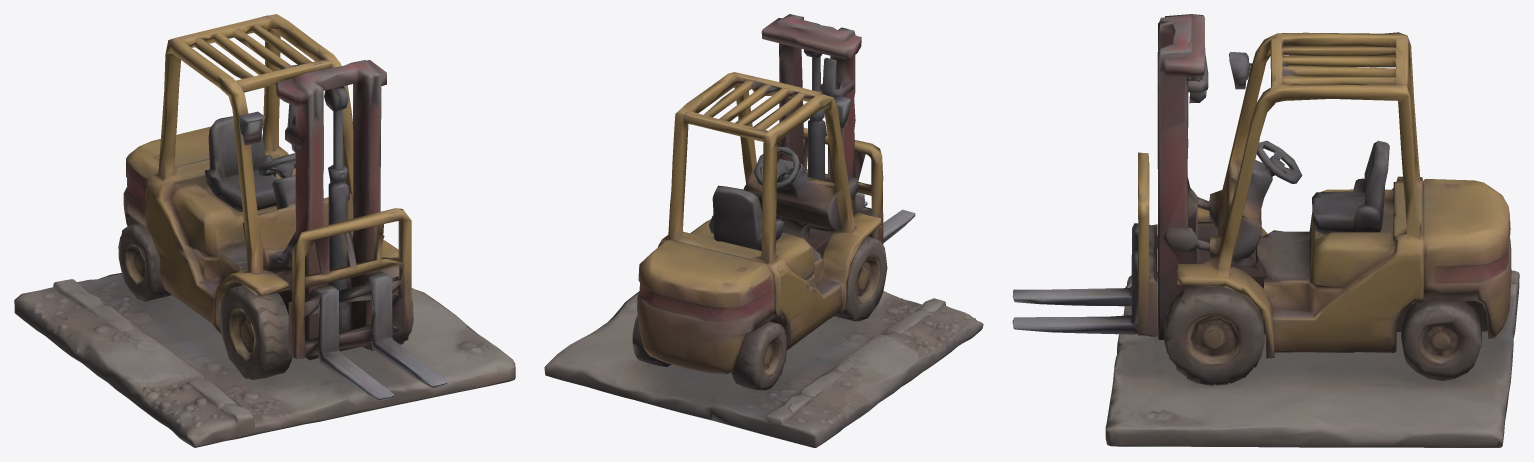
File: seaport_forklift.glb
3 renders of one model, left to right at view 1: azimuth 30°, elevation 25°; view 2: azimuth 150°, elevation 25°; view 3: azimuth 270°, elevation 25°, orthographic. The views are drawn at different scales.
Parts seen in each view (by area): view 1: tripo_node_347fdf8c-0e85-4b23-a445-d6fa62a5c093; view 2: tripo_node_347fdf8c-0e85-4b23-a445-d6fa62a5c093; view 3: tripo_node_347fdf8c-0e85-4b23-a445-d6fa62a5c093.
Part boxes in pixels (x1,y1,x2,y2): tripo_node_347fdf8c-0e85-4b23-a445-d6fa62a5c093: [14, 14, 515, 447]; tripo_node_347fdf8c-0e85-4b23-a445-d6fa62a5c093: [544, 14, 983, 447]; tripo_node_347fdf8c-0e85-4b23-a445-d6fa62a5c093: [1012, 14, 1519, 447].
Size of the model in its own units: 0.7726 by 0.738 by 1.
1 material, 1 textured.
